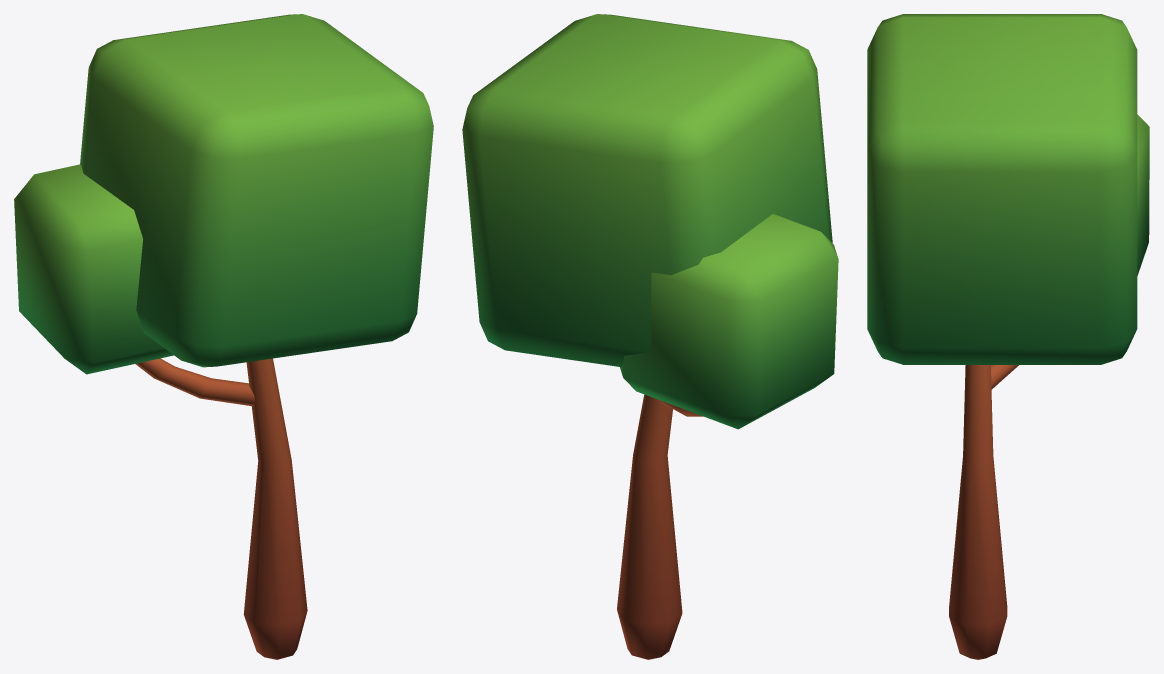
The model's file is Tree_2_A_Color1.gltf.
The picture shows the model from 3 angles, left to right: view 1: azimuth 30°, elevation 25°; view 2: azimuth 150°, elevation 25°; view 3: azimuth 270°, elevation 25°; orthographic projection. The views are drawn at different scales.
Parts seen in each view (by area): view 1: Tree_2_A_Color1; view 2: Tree_2_A_Color1; view 3: Tree_2_A_Color1.
Part boxes in pixels (box(x1,y1,x2,y2)): Tree_2_A_Color1: box(14, 14, 433, 659); Tree_2_A_Color1: box(462, 14, 838, 659); Tree_2_A_Color1: box(867, 14, 1149, 659).
Bounding box in the file's own units: 2.6 × 4.67 × 2.
Materials: 1 (1 with a texture image).
